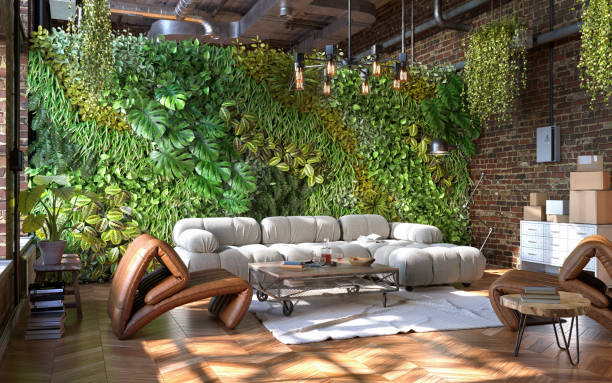chair: (106, 232, 253, 341), (489, 233, 612, 332)
floor lamp: (428, 134, 497, 253)
side table: (498, 293, 590, 366)
small plant: (17, 181, 104, 264)
sofa: (171, 215, 488, 293)
table: (248, 258, 401, 317)
